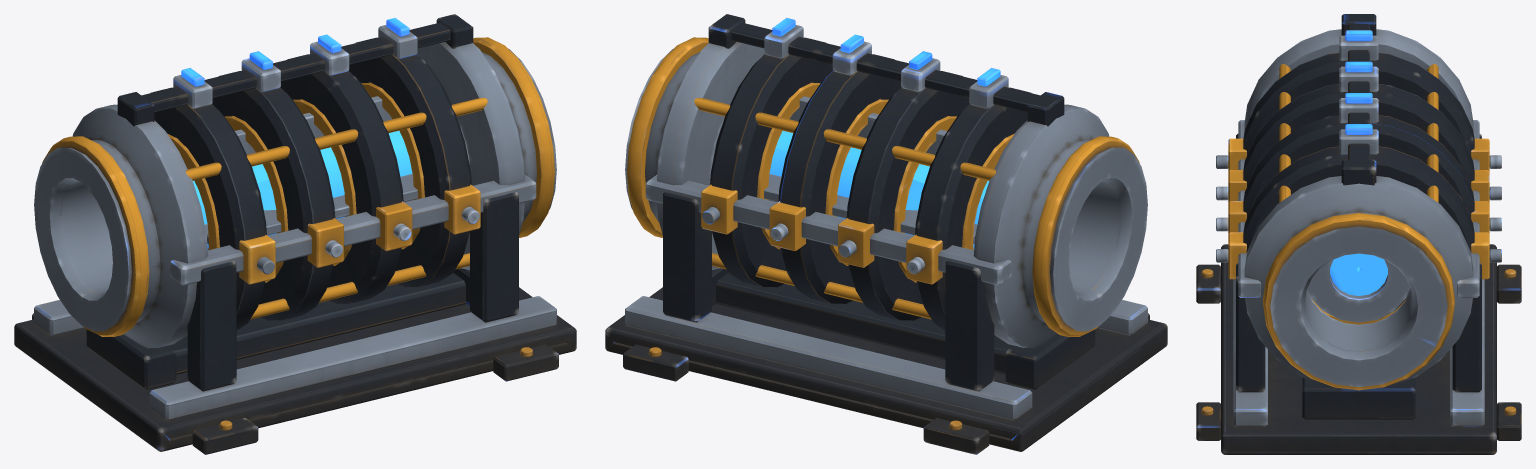
Rendered from containment_gate.glb.
3 renders of one model, left to right at view 1: azimuth 30°, elevation 25°; view 2: azimuth 150°, elevation 25°; view 3: azimuth 270°, elevation 25°, orthographic. The views are drawn at different scales.
Visible parts, largest first — view 1: Batch_0, Batch_1; view 2: Batch_0, Batch_1; view 3: Batch_0, Batch_1.
Part boxes in pixels (box(x1,y1,x2,y2)): Batch_0: box(14, 14, 576, 454); Batch_1: box(181, 17, 412, 249); Batch_0: box(605, 14, 1167, 454); Batch_1: box(769, 17, 1000, 249); Batch_0: box(1196, 14, 1521, 454); Batch_1: box(1330, 30, 1387, 295).
Size of the model in its own units: 1.22 by 0.8203 by 0.858.
2 materials, 2 textured.
